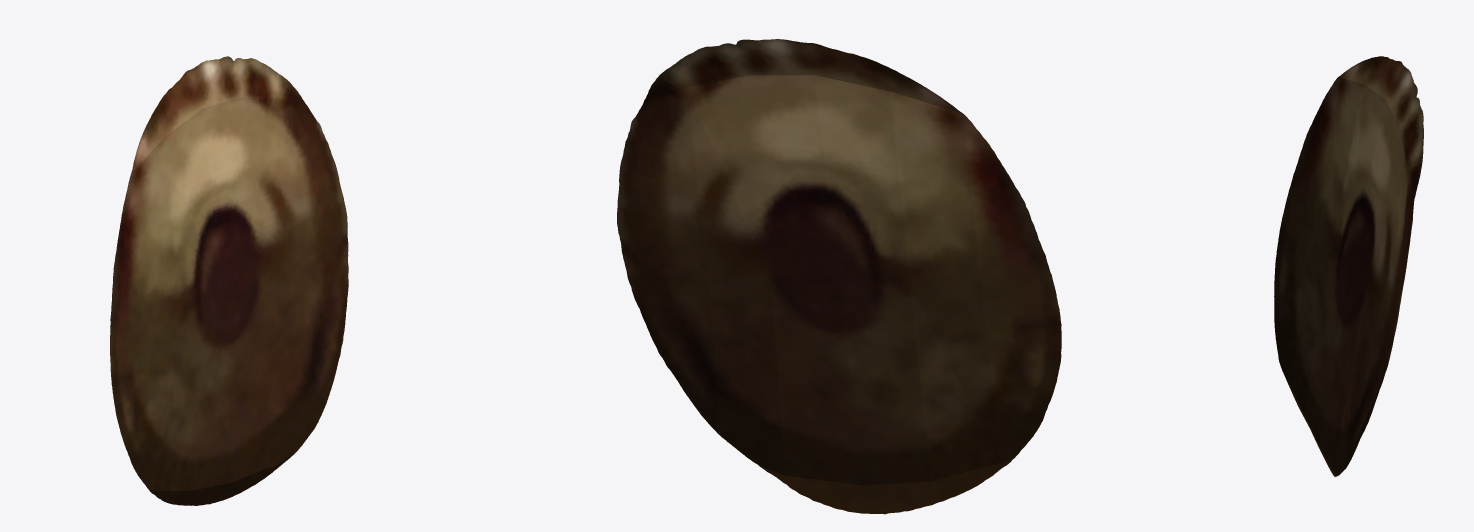
File: source0LOB.obj
3 renders of one model, left to right at view 1: azimuth 30°, elevation 25°; view 2: azimuth 150°, elevation 25°; view 3: azimuth 270°, elevation 25°, orthographic. The views are drawn at different scales.
Visible parts, largest first — view 1: source0LOB; view 2: source0LOB; view 3: source0LOB.
Part boxes in pixels (x1,y1,x2,y2): source0LOB: [110, 56, 348, 505]; source0LOB: [617, 39, 1061, 514]; source0LOB: [1274, 56, 1423, 476].
Bounding box in the file's own units: 4.82 × 3.95 × 1.84.
